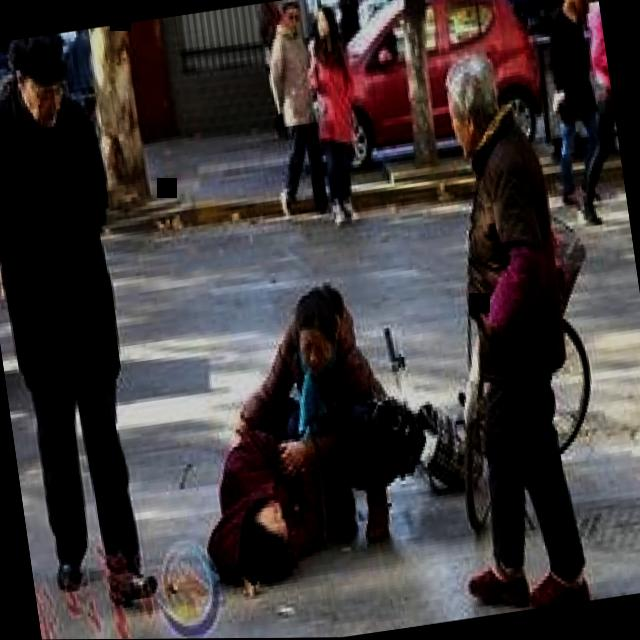Fall-Detected: (176, 372, 350, 596)
